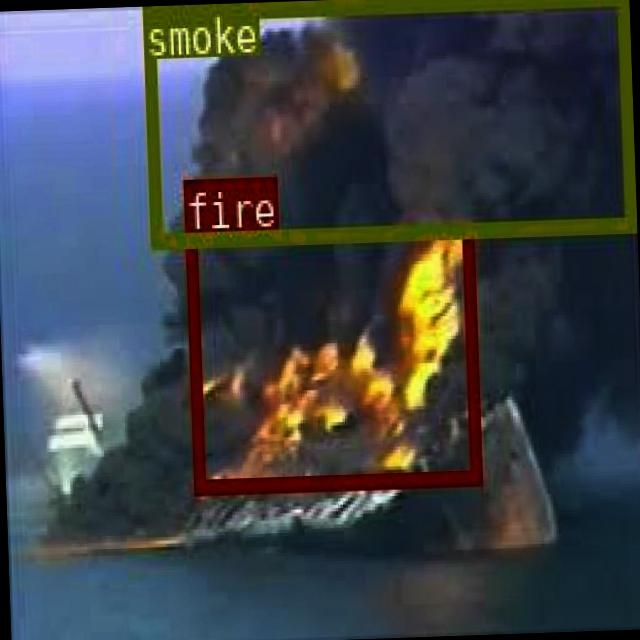fire: (182, 222, 480, 491)
smoke: (142, 0, 632, 244)
